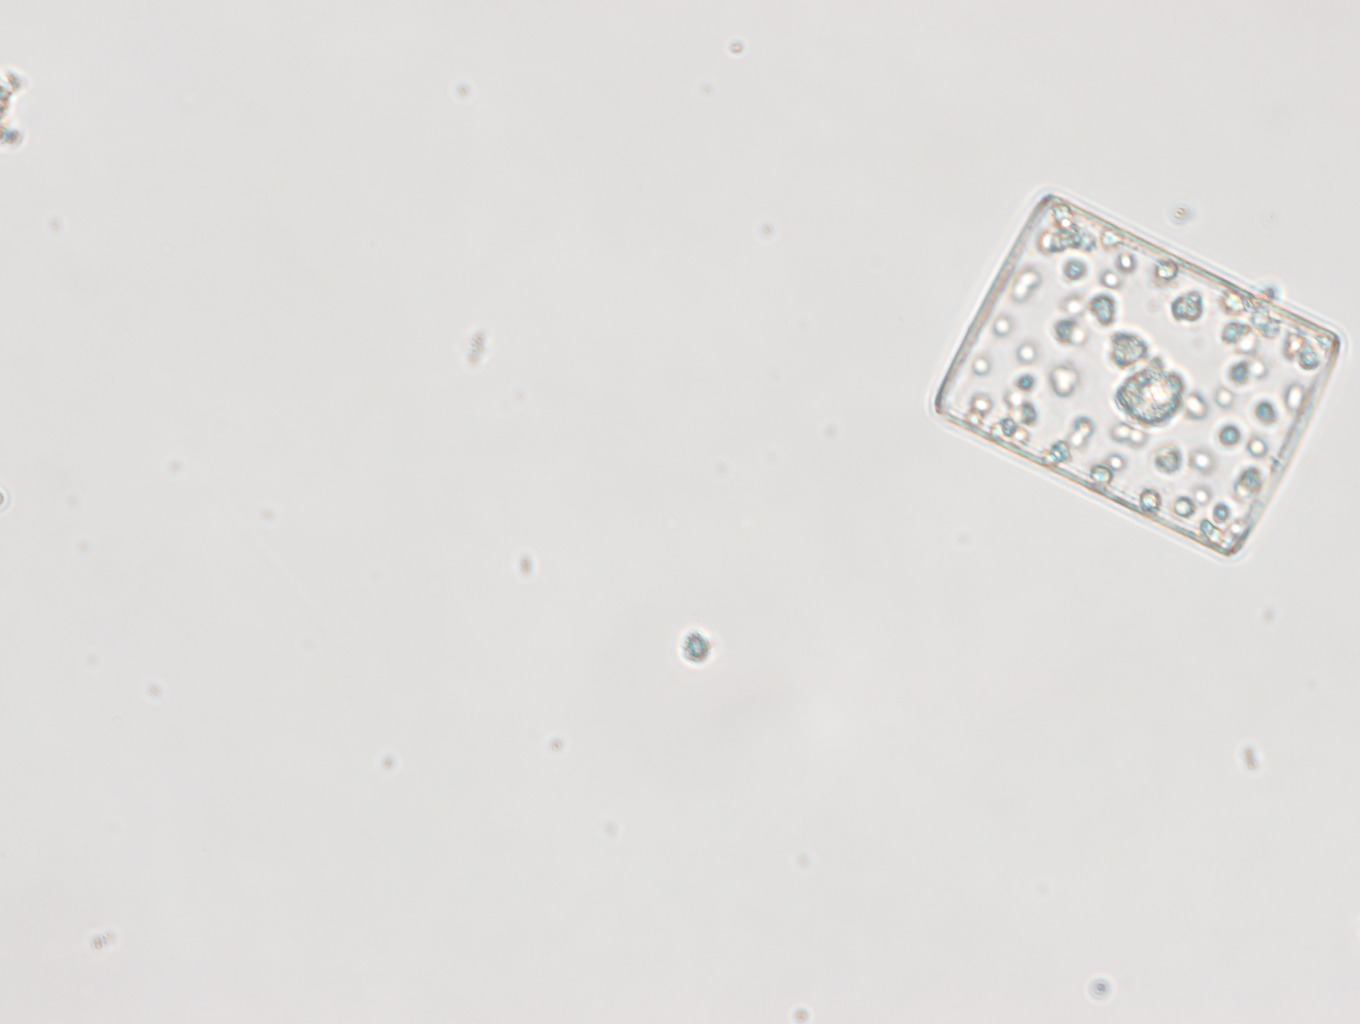guinardia flaccida: (934, 191, 1343, 560)
